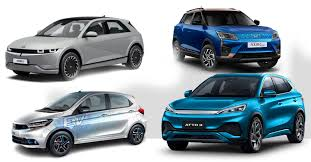Tiago: (16, 88, 148, 156)
